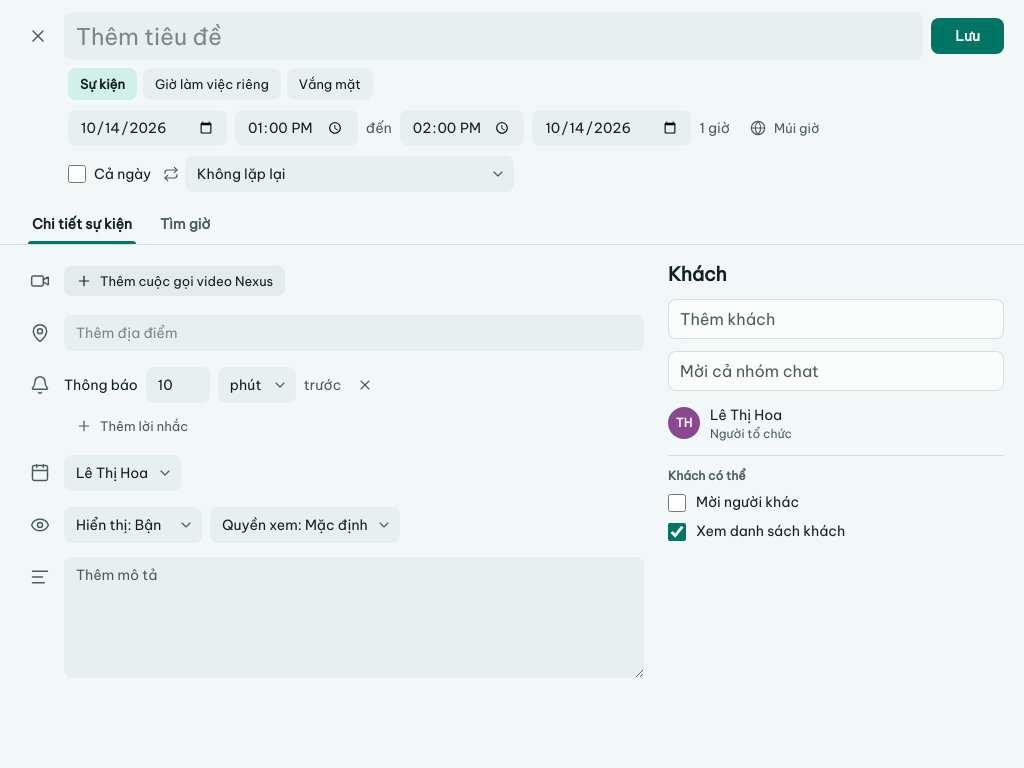
Test case: guests › shows a guest as free when nothing is in the way, and lets them be taken off
Type "Yến" into the dropdown labelled "Thêm khách".
click(836, 319); type("Yến")  # box [680,305,992,333]
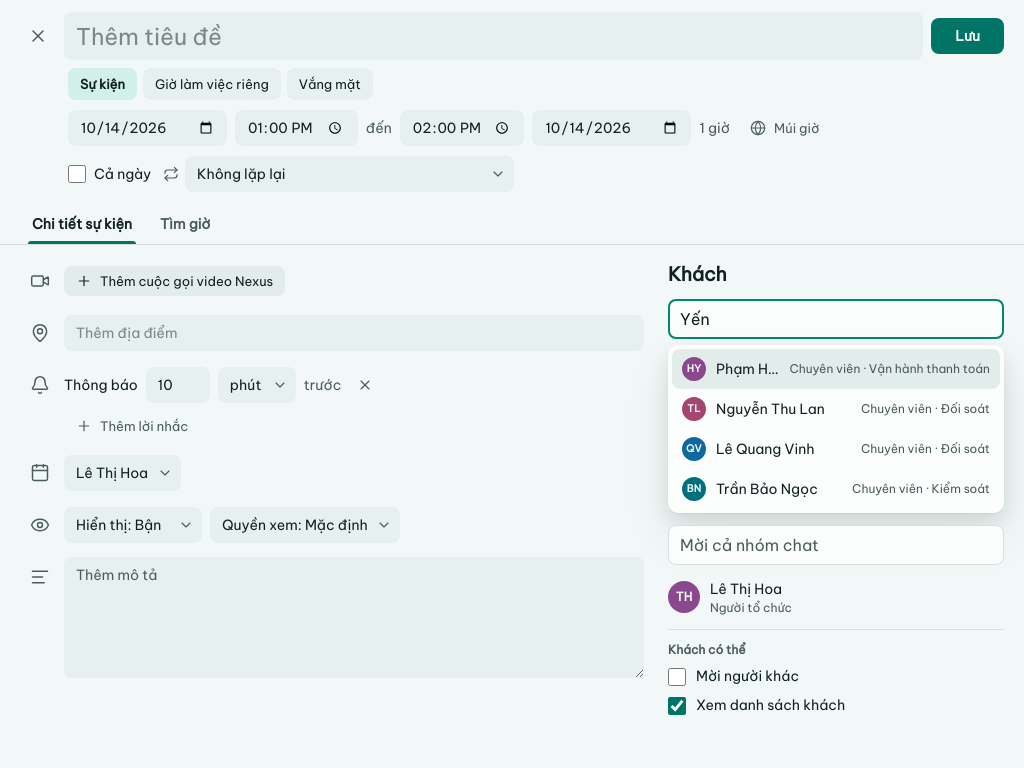
Click the option "HY Phạm Hải Yến Chuyên viên · Vận hành thanh toán".
click(836, 369)  # box [672,349,1000,389]
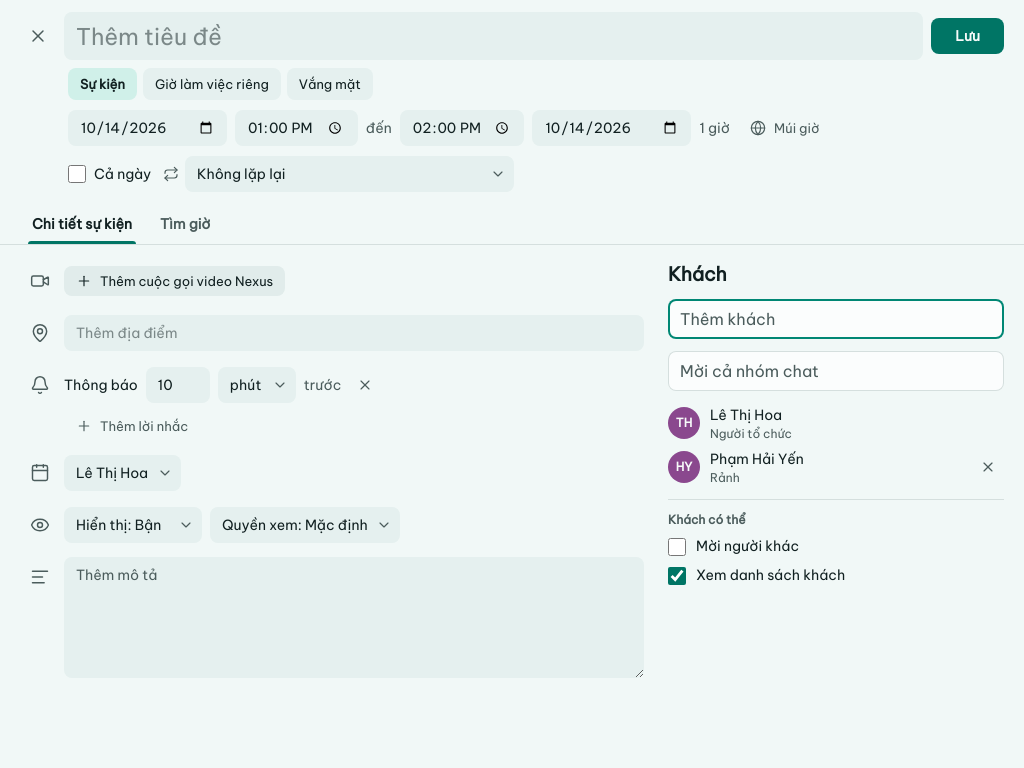
Check: the text "Rảnh" is shown, box [710,470,740,484]
Click the button named "Bỏ Phạm Hải Yến".
click(988, 467)  # box [972,451,1004,483]
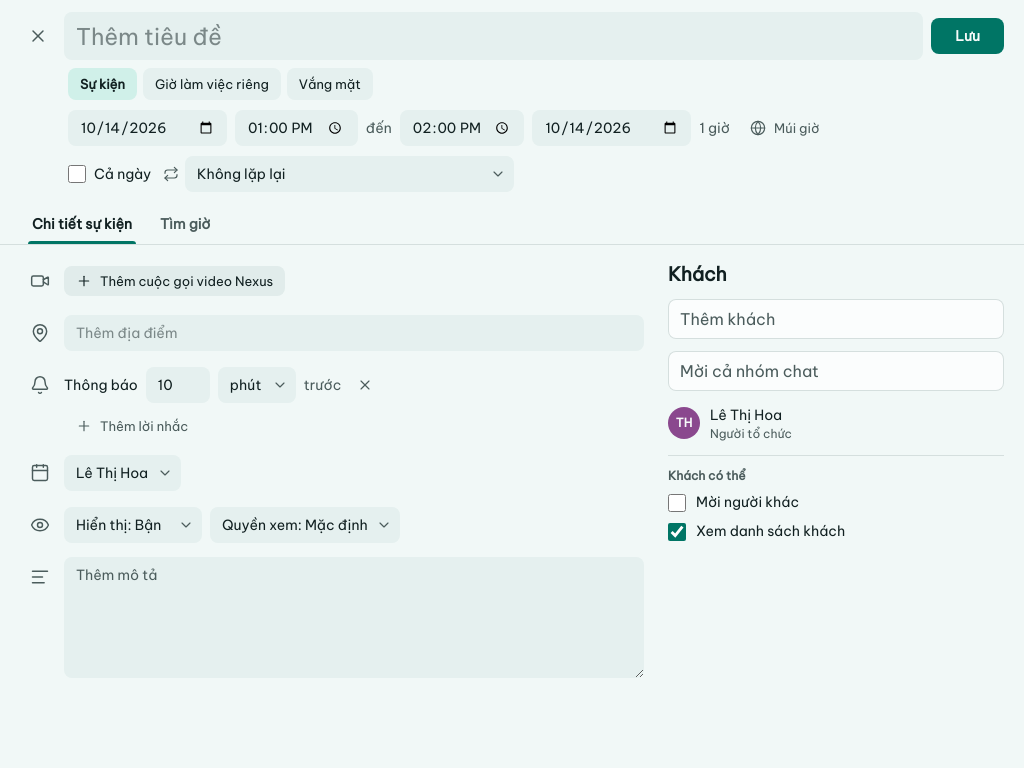
Check: the text "Rảnh" is gone
